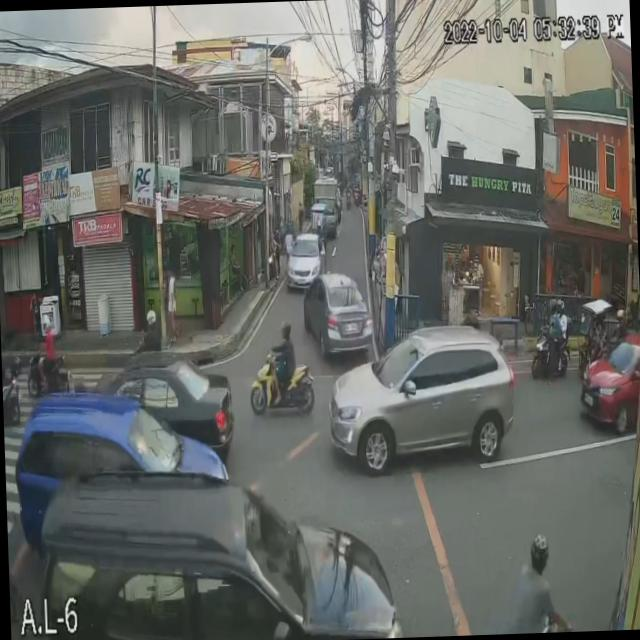invalid: (528, 528, 551, 570)
